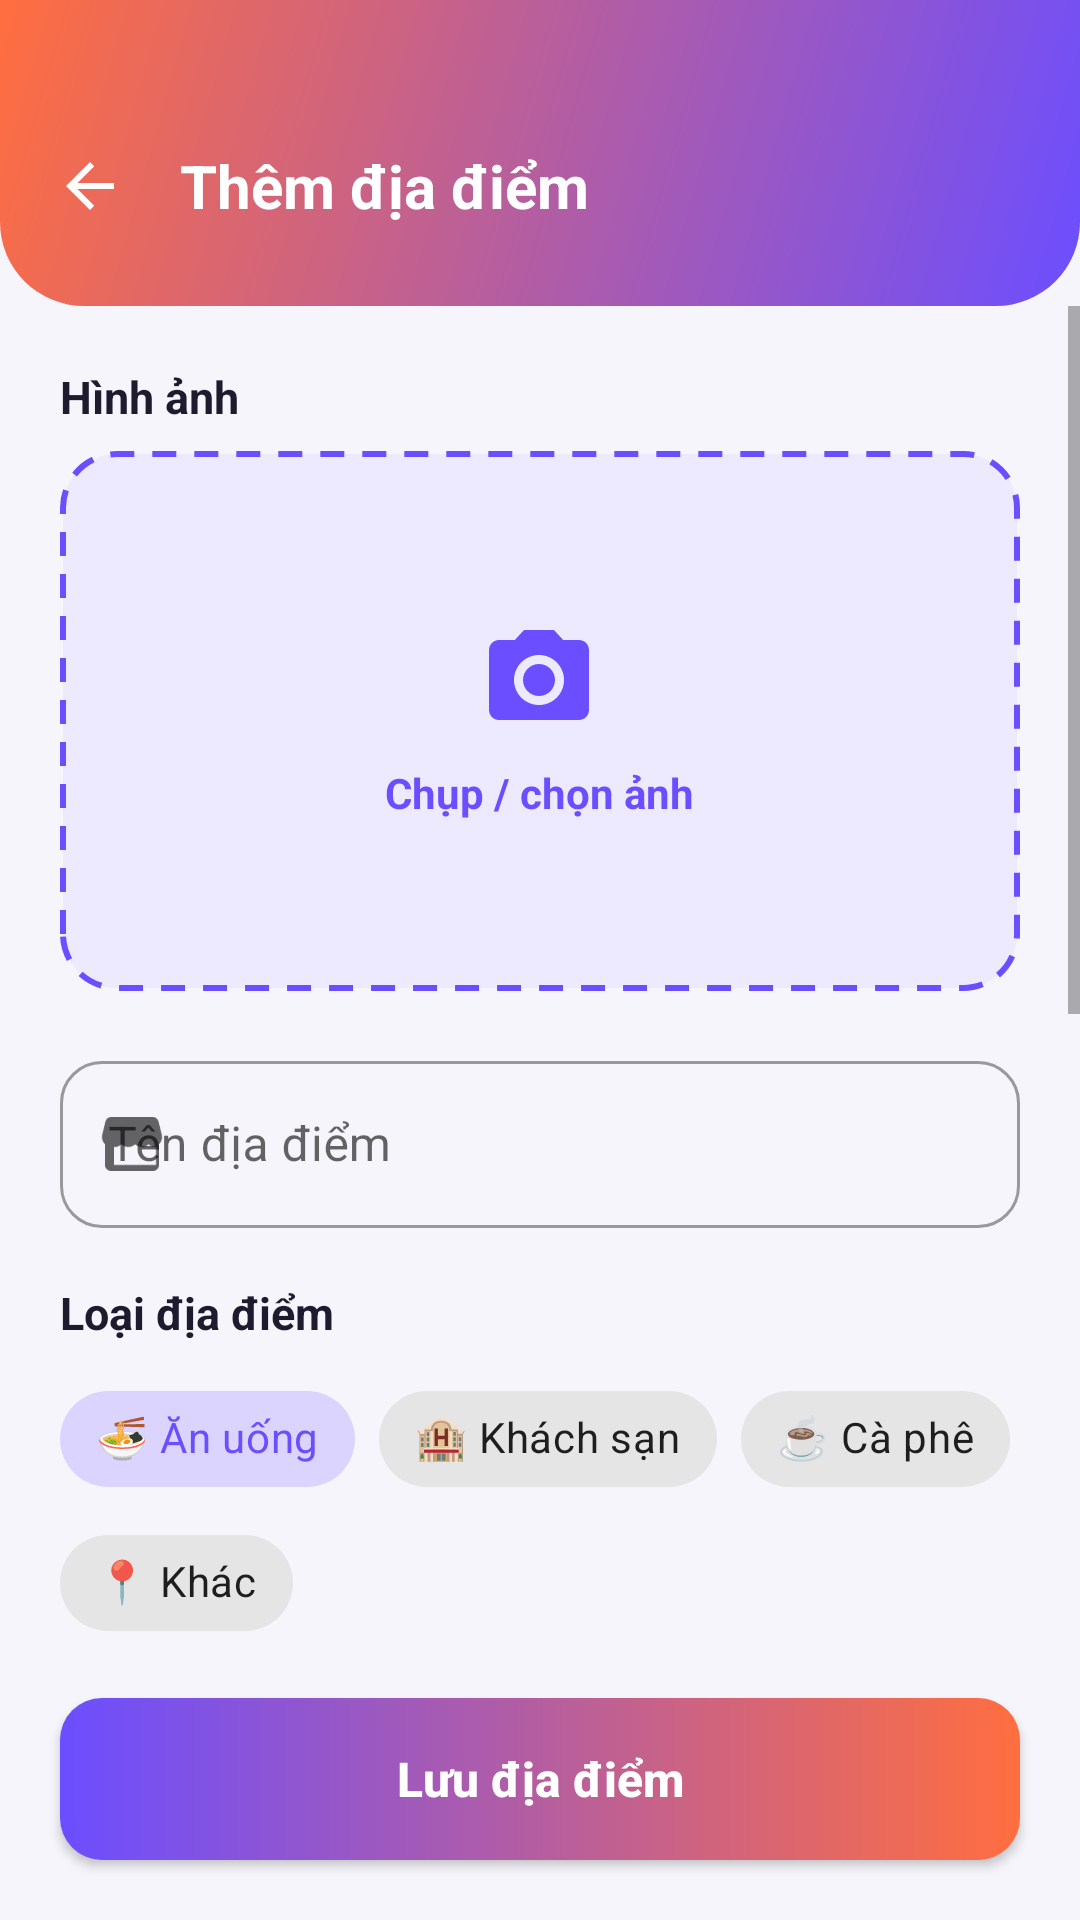

Icon bounding boxes for this 1080*1920 phone screenshot, format bbox(x1, y1, x2, y2):
Back: bbox(54, 120, 156, 252)
